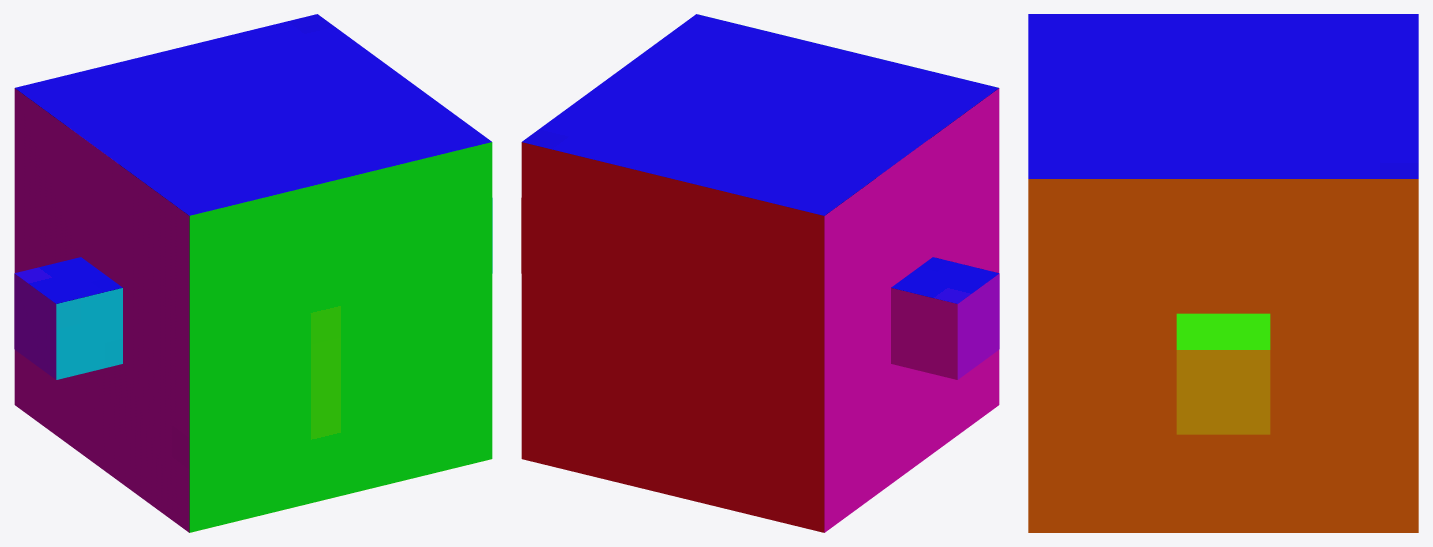
File: enemy.gltf
3 renders of one model, left to right at view 1: azimuth 30°, elevation 25°; view 2: azimuth 150°, elevation 25°; view 3: azimuth 270°, elevation 25°, orthographic. The views are drawn at different scales.
Parts seen in each view (by area): view 1: Body, Cube.001; view 2: Body, Cube.001; view 3: Body, Cube.
Part boxes in pixels (x1,y1,x2,y2): Body: (14, 14, 492, 532); Cube.001: (14, 257, 122, 379); Body: (521, 14, 999, 532); Cube.001: (891, 257, 999, 379); Body: (1028, 14, 1418, 532); Cube: (1176, 313, 1270, 434).
Bounding box in the file's own units: 1.44 × 1 × 1.
1 material, 1 textured.
